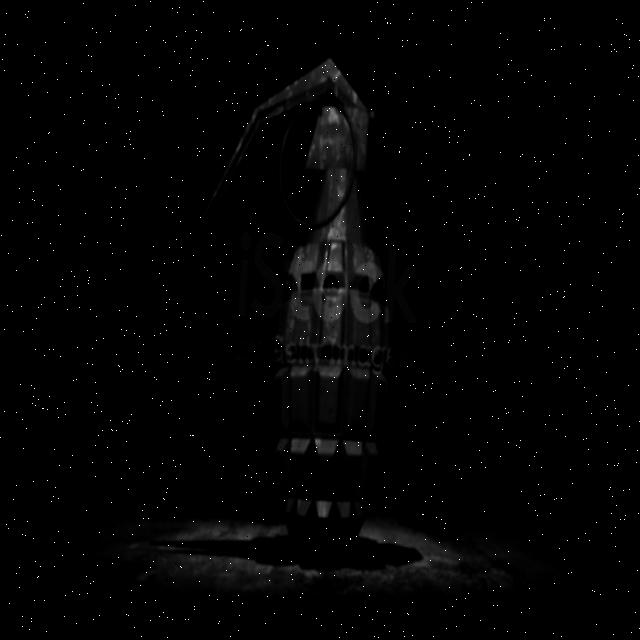grenade: (109, 26, 463, 584)
